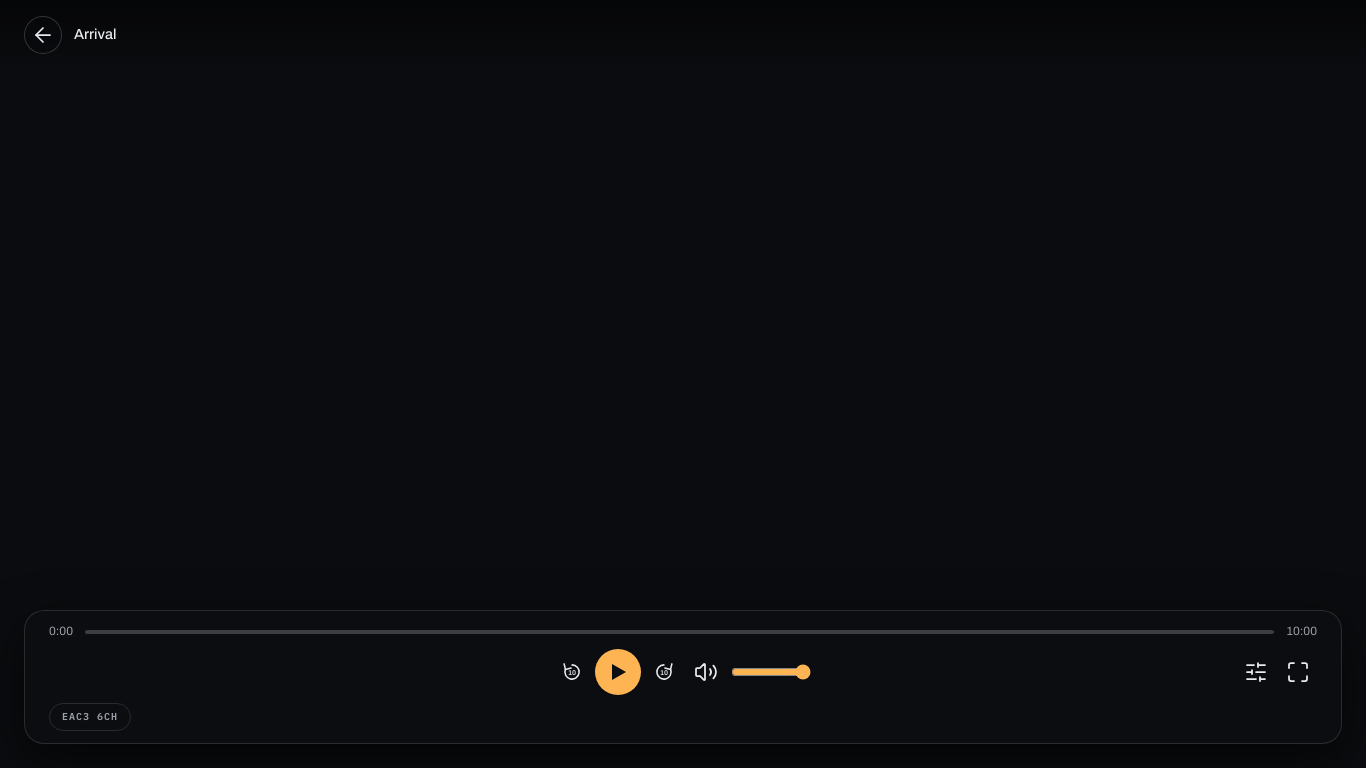
Test: PlayerControls — transport wiring › only mounts the track pickers once a track popover is opened, and forwards directPlay
Expected: the text "Audio" is not shown
What coordinates should you click on to do the following:
click the button named "Audio and subtitle tracks"
I would click on:
 (1256, 672)
Its box is left=1237, top=652, right=1275, bottom=690.
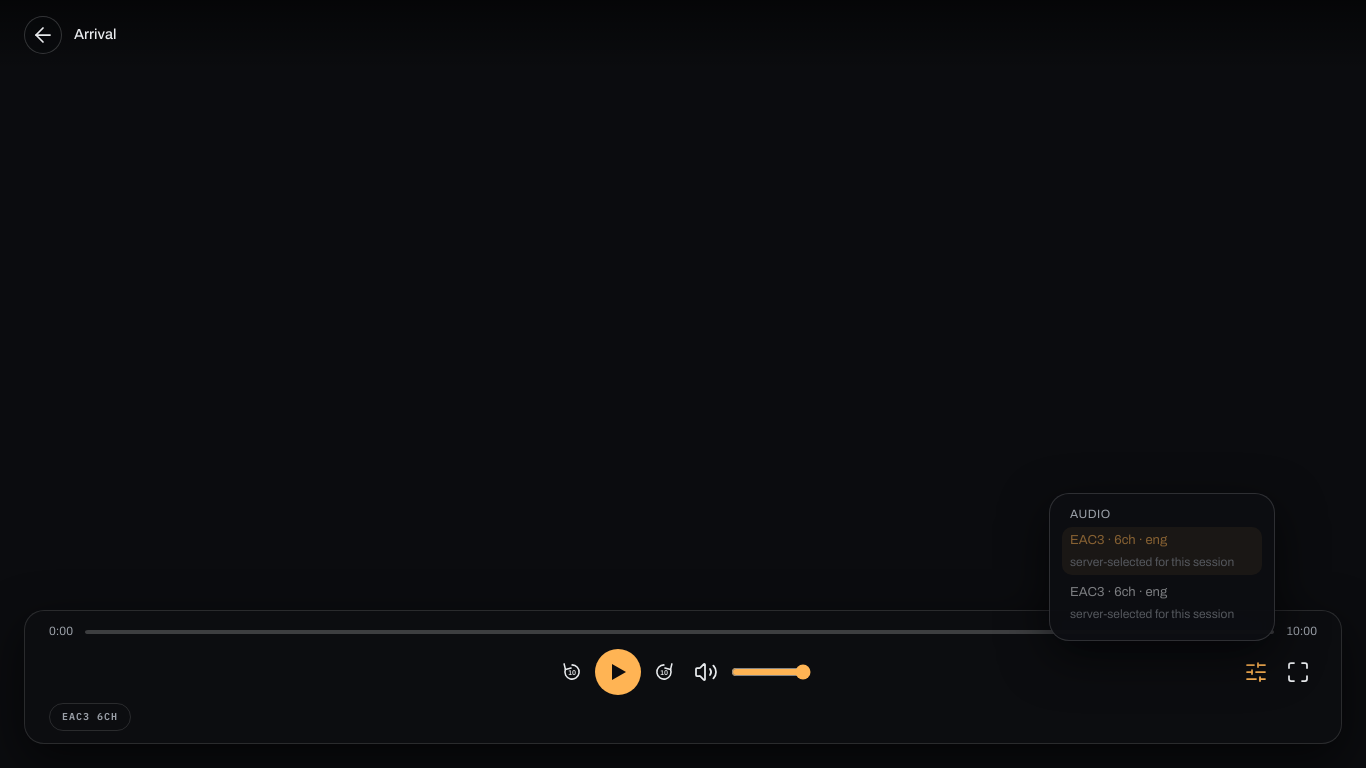
Expected: the text "server-selected for this session" is shown, left=1070, top=554, right=1254, bottom=571
